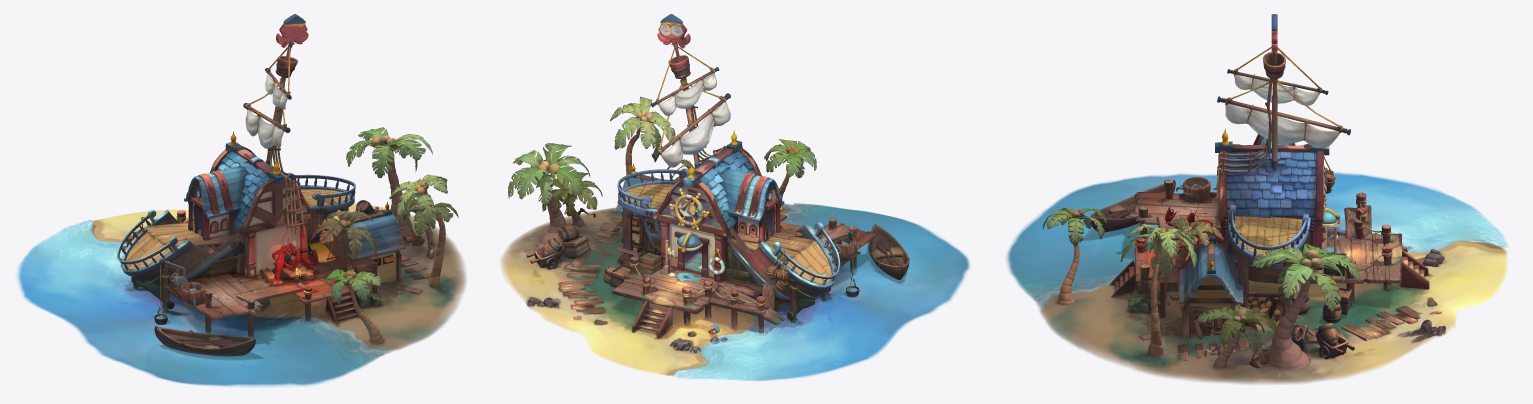
Rendered from harbor.glb.
The picture shows the model from 3 angles, left to right: view 1: azimuth 30°, elevation 25°; view 2: azimuth 150°, elevation 25°; view 3: azimuth 270°, elevation 25°; orthographic projection. The views are drawn at different scales.
Visible parts, largest first — view 1: Object_4, Object_3, Object_2, Object_5; view 2: Object_4, Object_3, Object_2, Object_5; view 3: Object_4, Object_3, Object_2, Object_5.
Boxes of the visible parts, x1,y1,x2,y2 form: Object_4: (20,56,466,358); Object_3: (17,78,456,386); Object_2: (122,14,458,303); Object_5: (117,42,388,301); Object_4: (500,55,953,375); Object_3: (501,79,970,380); Object_2: (508,14,836,282); Object_5: (562,42,853,310); Object_4: (1035,52,1508,384); Object_3: (1006,77,1508,373); Object_2: (1042,14,1360,354); Object_5: (1190,52,1352,359).
Bounding box in the file's own units: 331 × 216 × 334.
2 materials, 2 textured.
